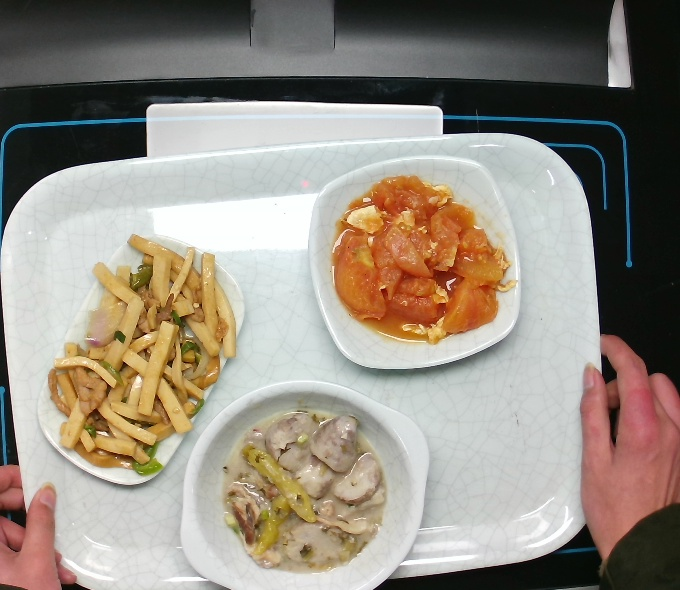wcq-FanQieChaoDan: (326, 177, 523, 347)
wcq-QianYeDouFu: (47, 226, 238, 476)
wcq-YangYu: (220, 407, 397, 580)
